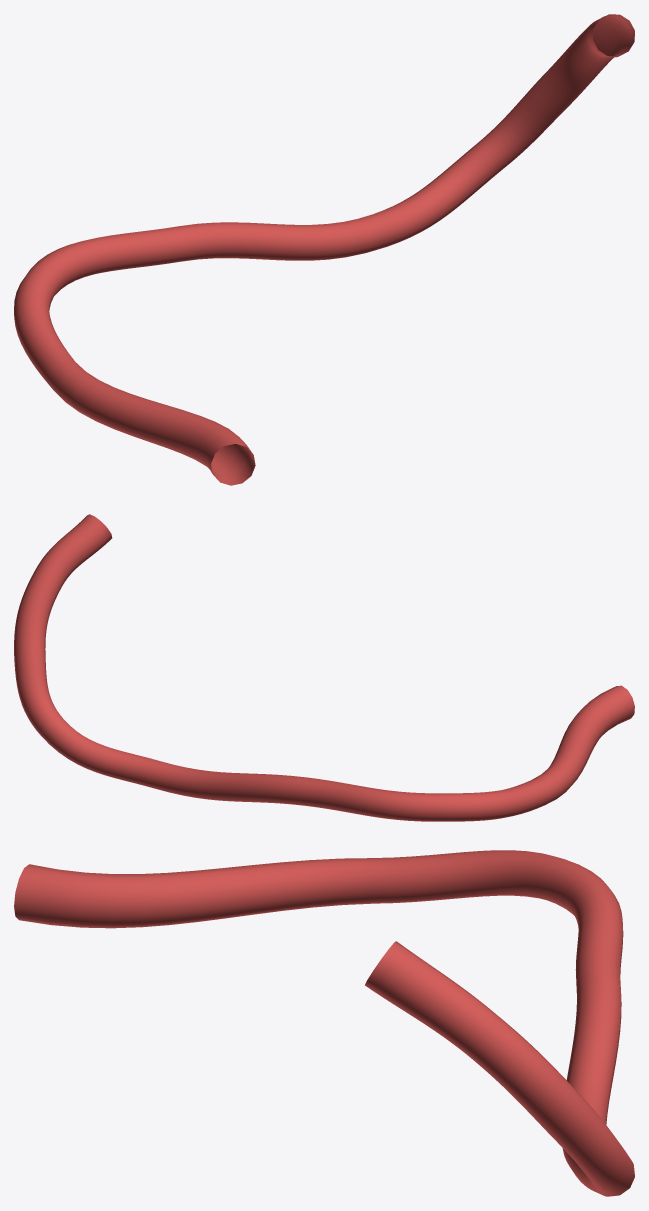
The picture shows the model from 3 angles, top to bottom: view 1: azimuth 30°, elevation 25°; view 2: azimuth 150°, elevation 25°; view 3: azimuth 270°, elevation 25°; orthographic projection. The views are drawn at different scales.
Visible parts, largest first — view 1: 左侧掌深弓; view 2: 左侧掌深弓; view 3: 左侧掌深弓.
Boxes of the visible parts, box(x1,y1,x2,y2) form: 左侧掌深弓: box(14, 14, 634, 485); 左侧掌深弓: box(14, 514, 634, 821); 左侧掌深弓: box(14, 850, 634, 1196).
Size of the model in its own units: 0.0575 by 0.0225 by 0.04.
